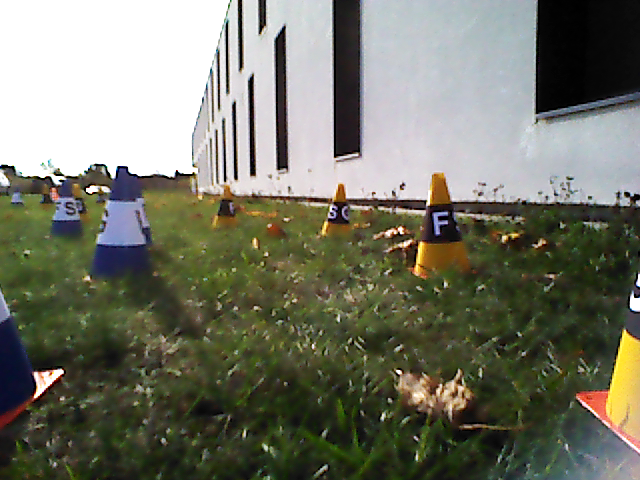bluecone: (90, 168, 150, 271), (49, 182, 79, 236)
yellowcone: (417, 174, 469, 273), (322, 186, 352, 232), (214, 186, 239, 225)
